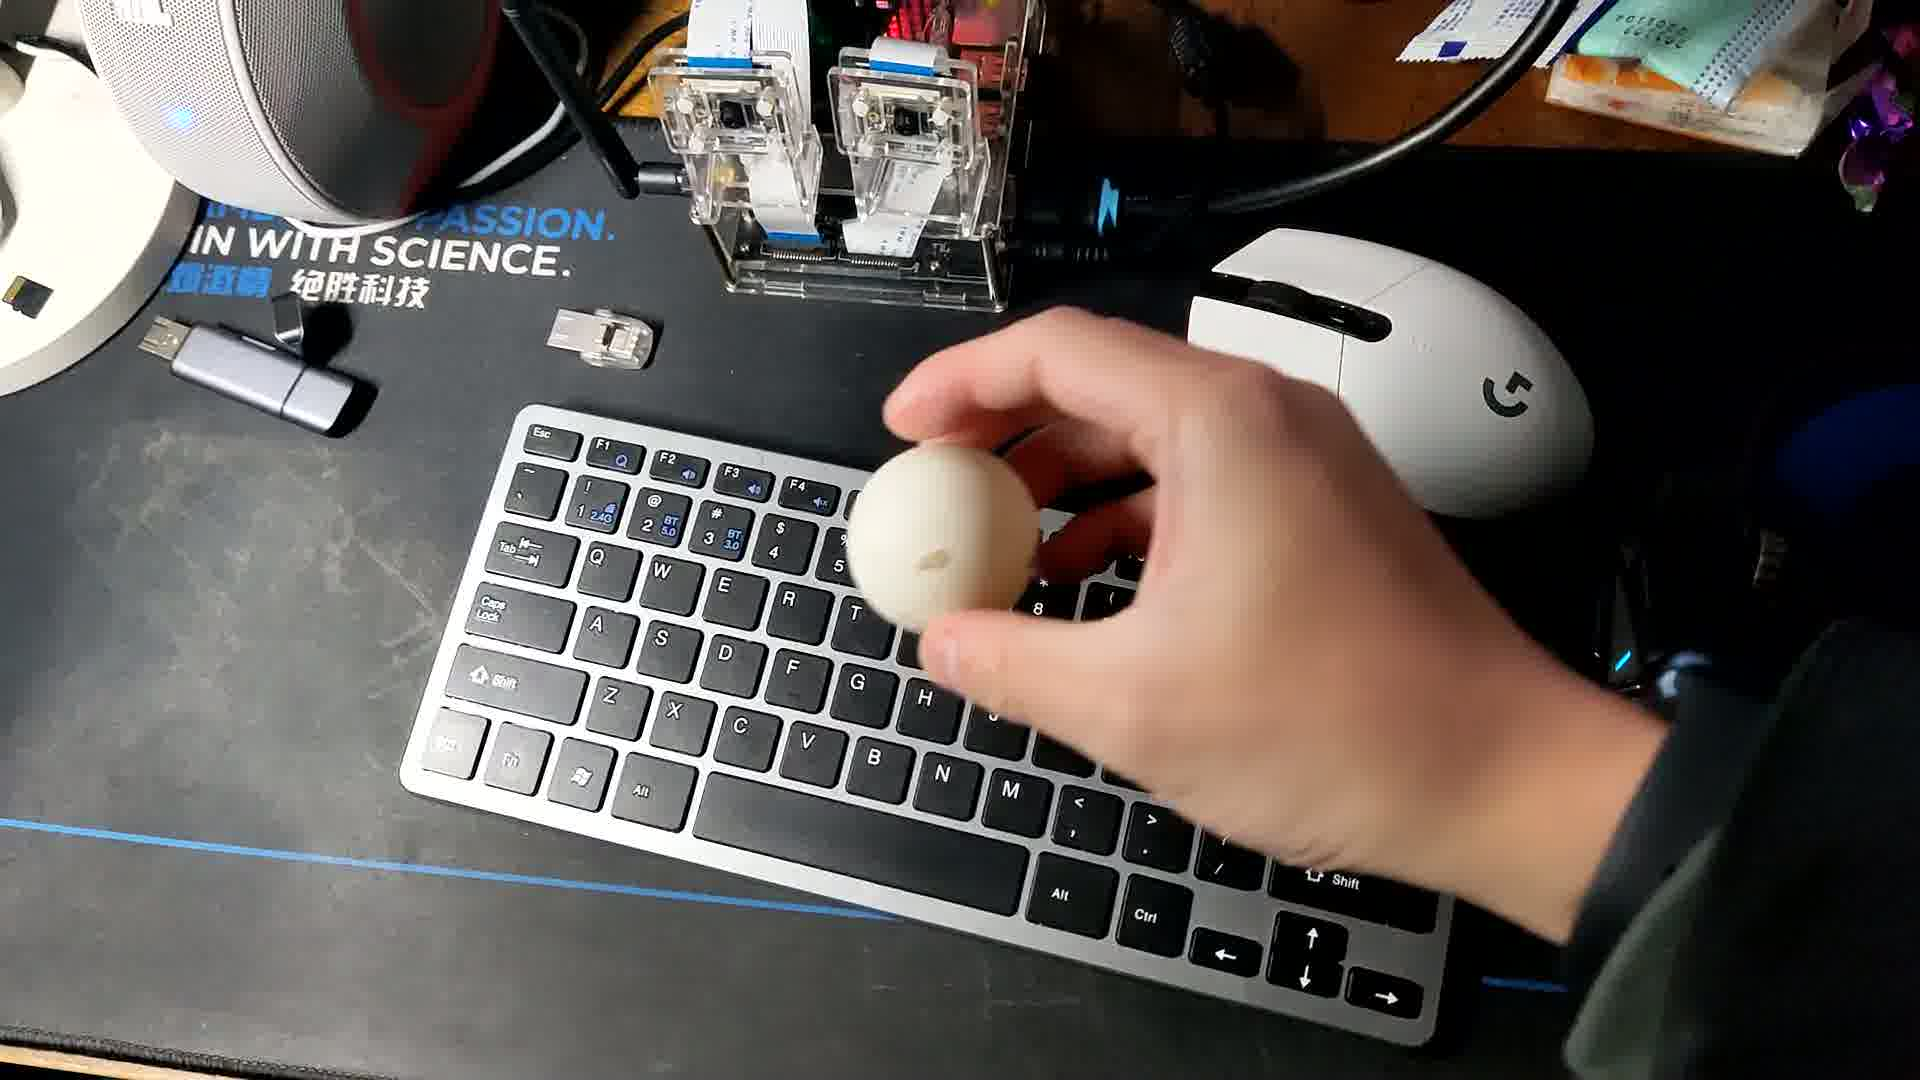Ball: (843, 440, 1036, 638)
